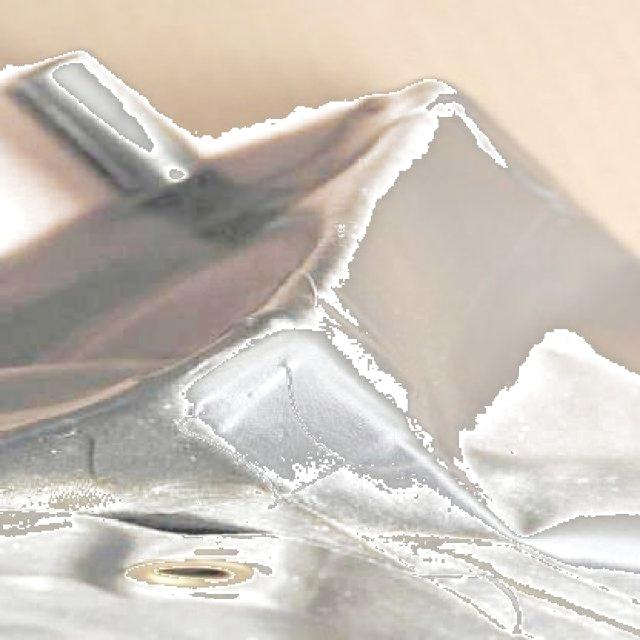crack: (264, 355, 340, 461)
